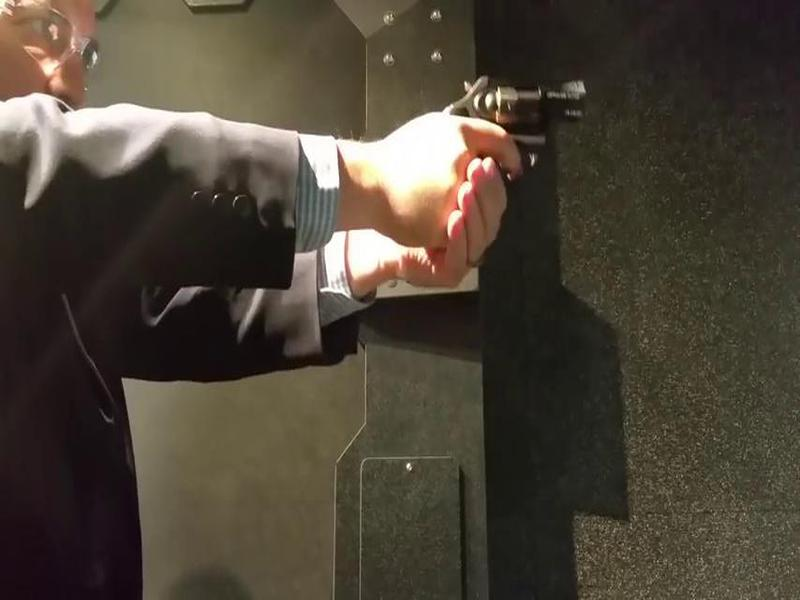Revolver: (447, 56, 601, 208)
